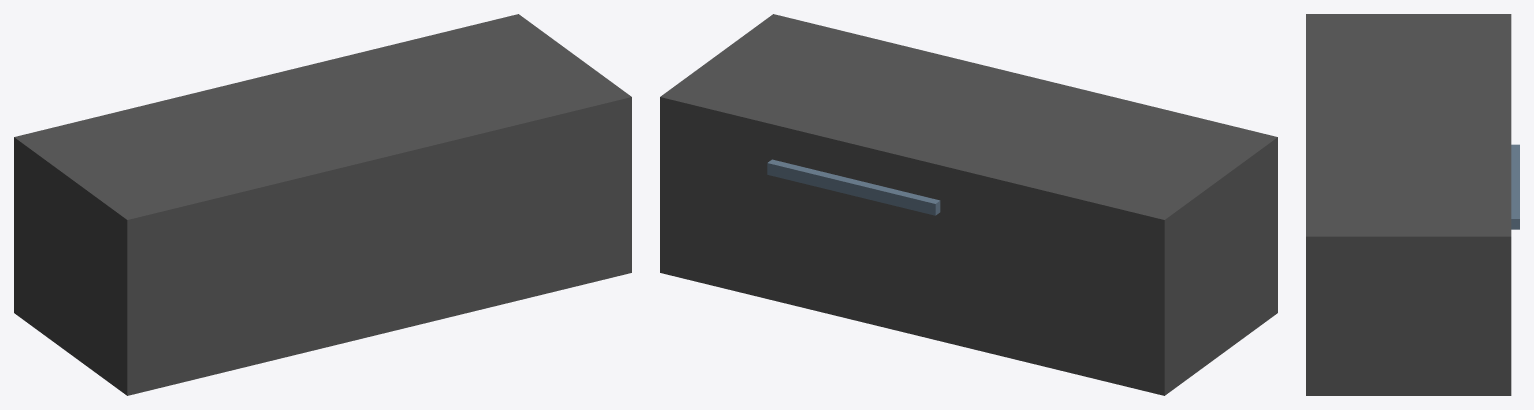
File: dashboard.glb
3 renders of one model, left to right at view 1: azimuth 30°, elevation 25°; view 2: azimuth 150°, elevation 25°; view 3: azimuth 270°, elevation 25°, orthographic. The views are drawn at different scales.
Visible parts, largest first — view 1: dash; view 2: dash, screen; view 3: dash, screen.
Boxes of the visible parts, x1,y1,x2,y2 form: dash: (14, 14, 631, 395); dash: (660, 14, 1277, 395); screen: (767, 159, 940, 215); dash: (1306, 14, 1511, 395); screen: (1511, 144, 1519, 229).
Bounding box in the file's own units: 1.8 × 0.5996 × 0.73.
